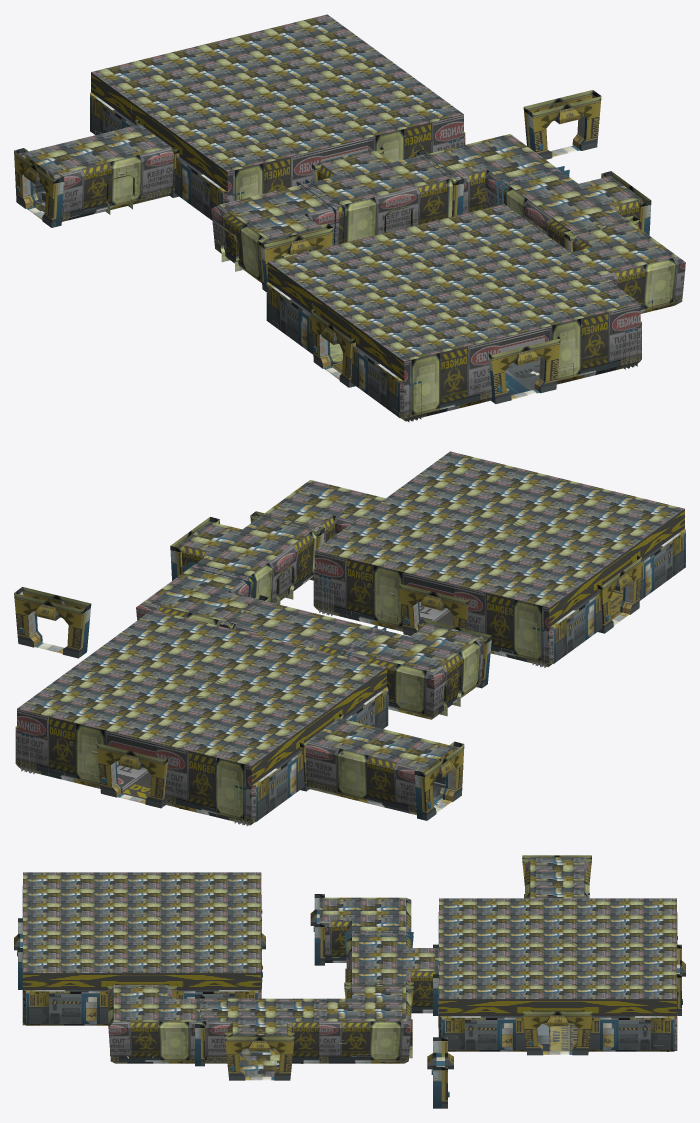
Rendered from Combined_Mesh_root_scene__15_7f71ba4d__ZombiesII_laboratory_06_d_24666406_c1f257.obj.
The picture shows the model from 3 angles, top to bottom: view 1: azimuth 30°, elevation 25°; view 2: azimuth 150°, elevation 25°; view 3: azimuth 270°, elevation 25°; orthographic projection. The views are drawn at different scales.
Bounding box in the file's own units: 84.62 × 10.34 × 113.
Materials: 591 (591 with a texture image).
